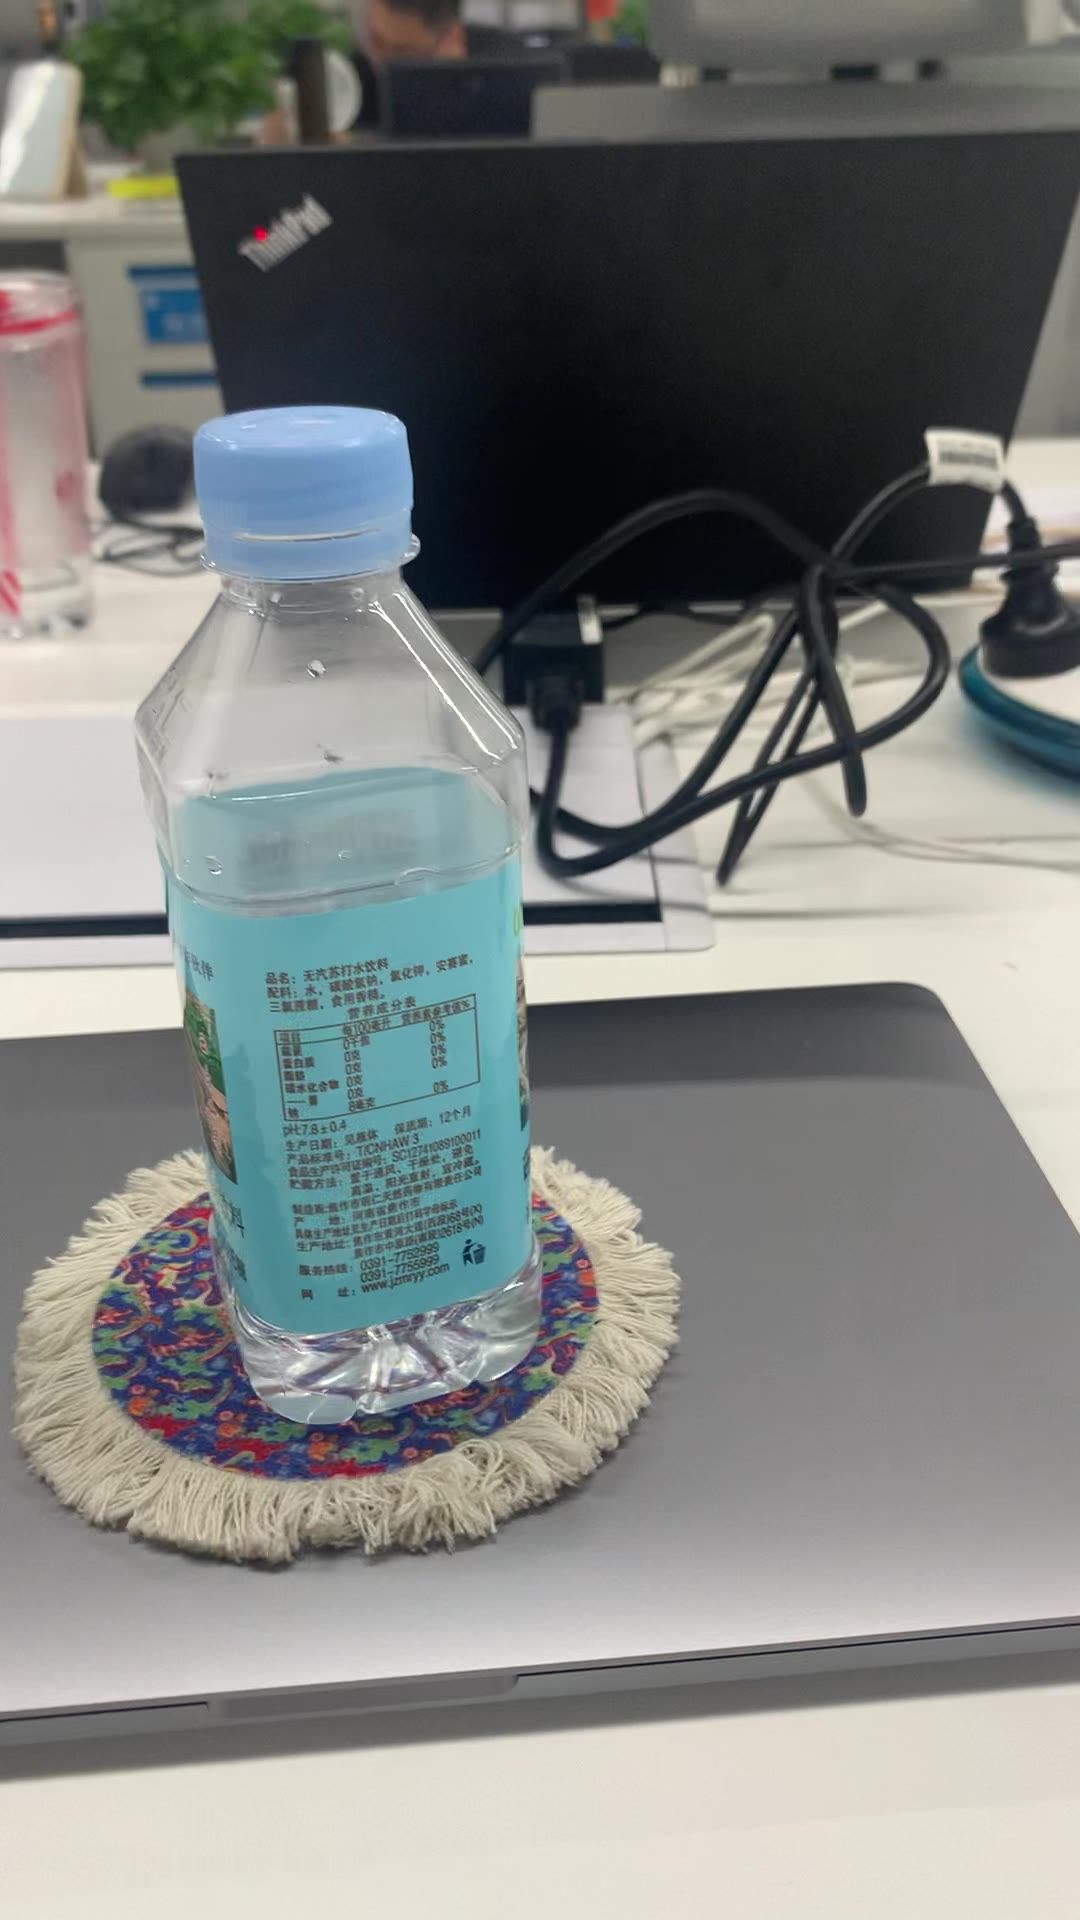水瓶: (117, 407, 568, 1439)
